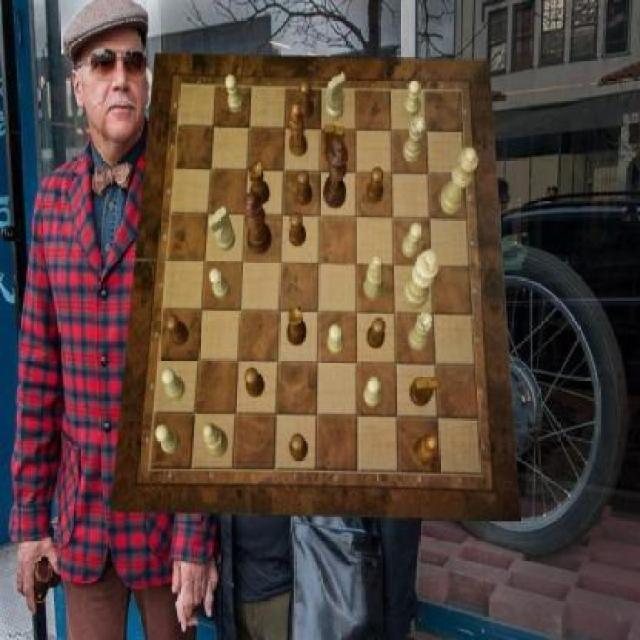bishop: (290, 103, 308, 157), (412, 434, 438, 468)
black-bishop: (323, 134, 348, 208)
black-king: (326, 125, 346, 166), (411, 379, 438, 406)
black-knight: (166, 316, 189, 346), (366, 168, 384, 204), (366, 318, 386, 349), (297, 170, 314, 206), (298, 80, 314, 118), (246, 368, 266, 398), (289, 212, 306, 247), (290, 434, 308, 461)
black-pawn: (243, 191, 272, 256)
black-queen: (248, 162, 270, 206), (288, 305, 308, 346)
black-rook: (364, 255, 384, 301), (203, 423, 228, 458)
white-bishop: (403, 249, 440, 309)
white-king: (208, 206, 235, 252), (326, 72, 346, 120)
white-knight: (156, 423, 180, 454), (224, 75, 243, 114), (163, 368, 186, 400), (403, 222, 423, 258), (211, 268, 231, 300), (404, 80, 420, 118), (365, 377, 382, 408), (328, 324, 344, 356)
white-pawn: (438, 149, 478, 217)
white-queen: (403, 117, 425, 163), (409, 312, 434, 351)
